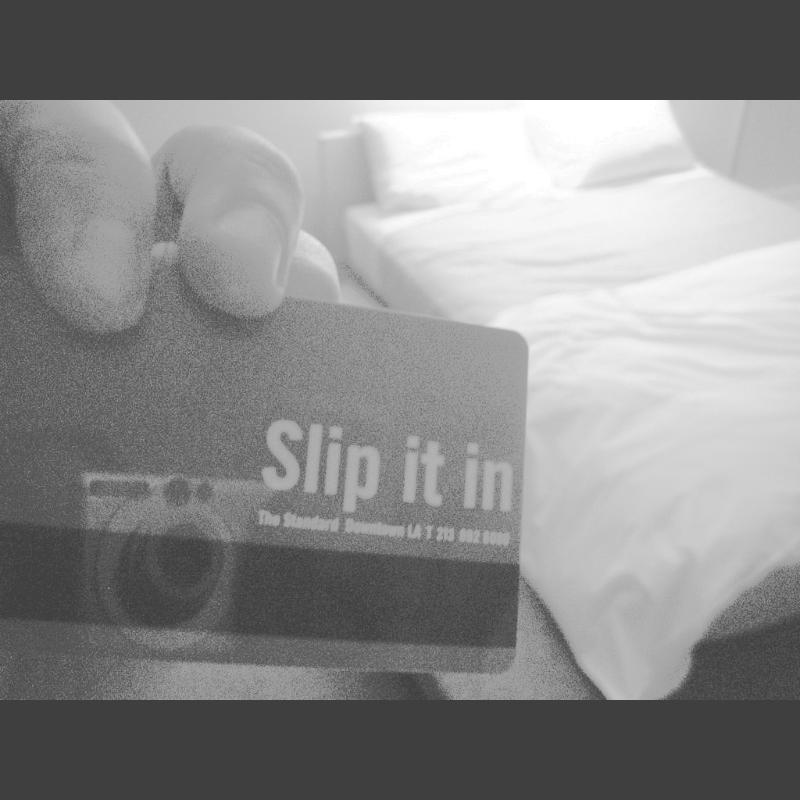pillow: (364, 108, 556, 200), (530, 100, 694, 186)
